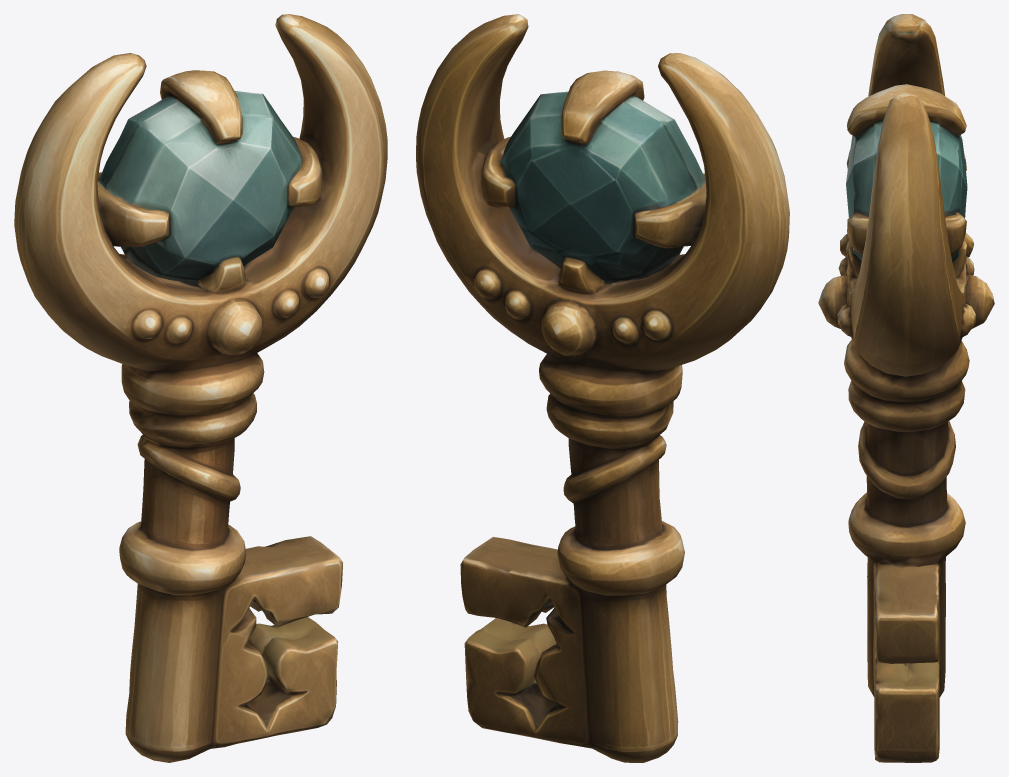
File: Prop_Key_Escape.fbx
3 renders of one model, left to right at view 1: azimuth 30°, elevation 25°; view 2: azimuth 150°, elevation 25°; view 3: azimuth 270°, elevation 25°, orthographic. The views are drawn at different scales.
Visible parts, largest first — view 1: texture_mapping; view 2: texture_mapping; view 3: texture_mapping.
Part boxes in pixels (box(x1,y1,x2,y2)): texture_mapping: box(14, 14, 387, 762); texture_mapping: box(416, 14, 789, 762); texture_mapping: box(818, 14, 994, 762).
Bounding box in the file's own units: 0.5318 × 0.241 × 1.
Materials: 1 (1 with a texture image).
